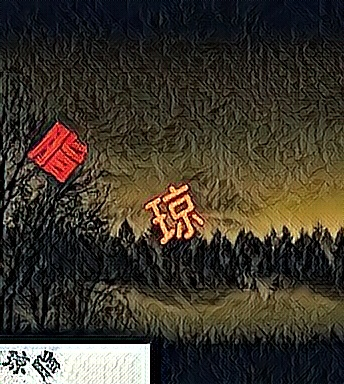C7ED: (141, 184, 207, 248)
D6AC: (26, 122, 92, 186)
